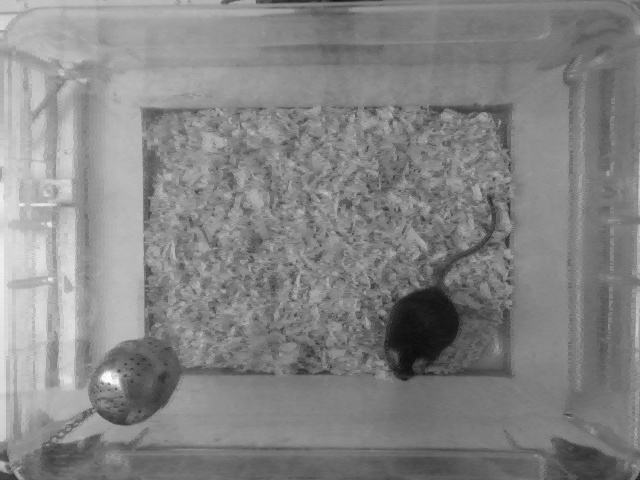mice: (380, 193, 500, 382)
